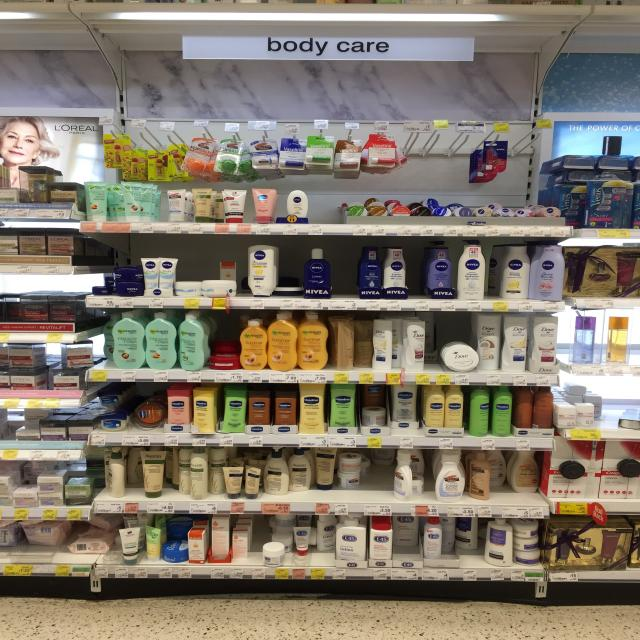void: (313, 180, 344, 222), (334, 245, 356, 296)
